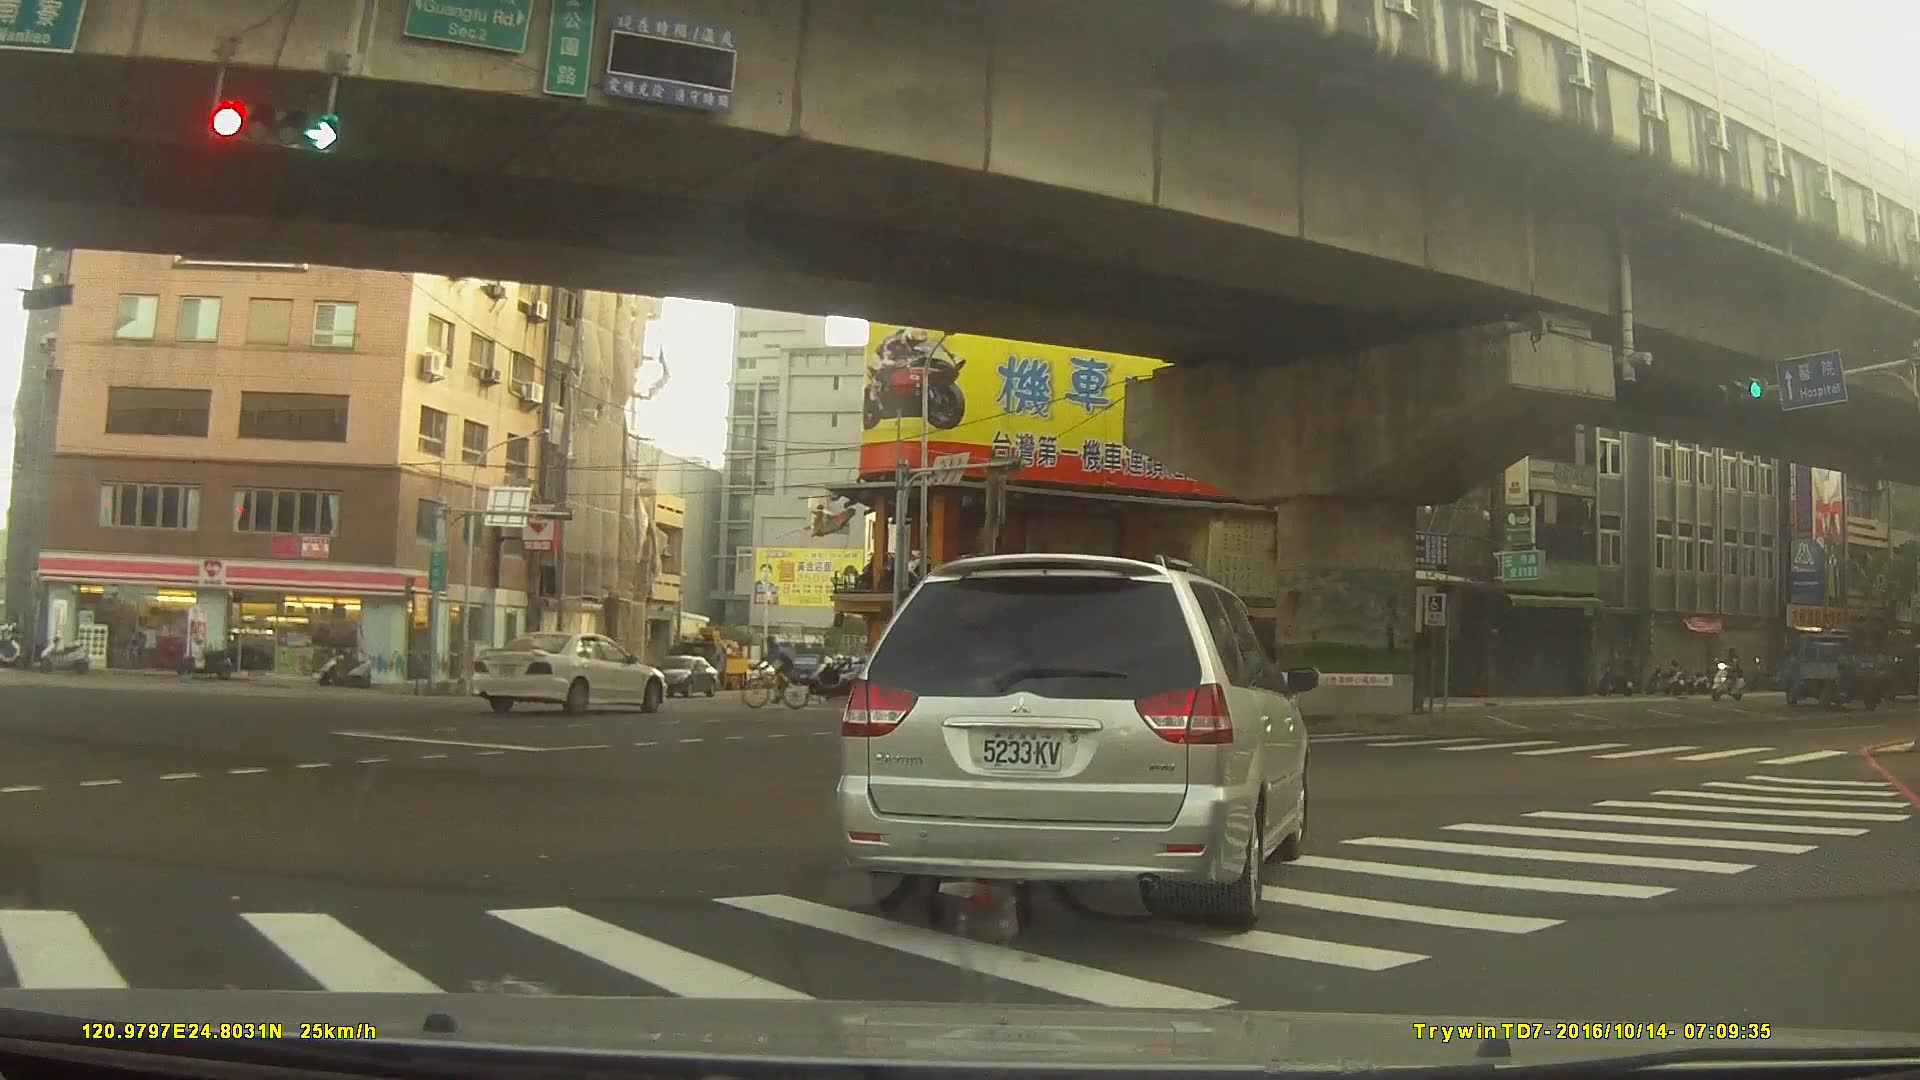rider: (742, 631, 818, 709), (1710, 646, 1749, 699)
vehicle: (834, 549, 1310, 933), (471, 628, 667, 715), (1778, 633, 1896, 714), (646, 654, 720, 696), (735, 655, 775, 686)
